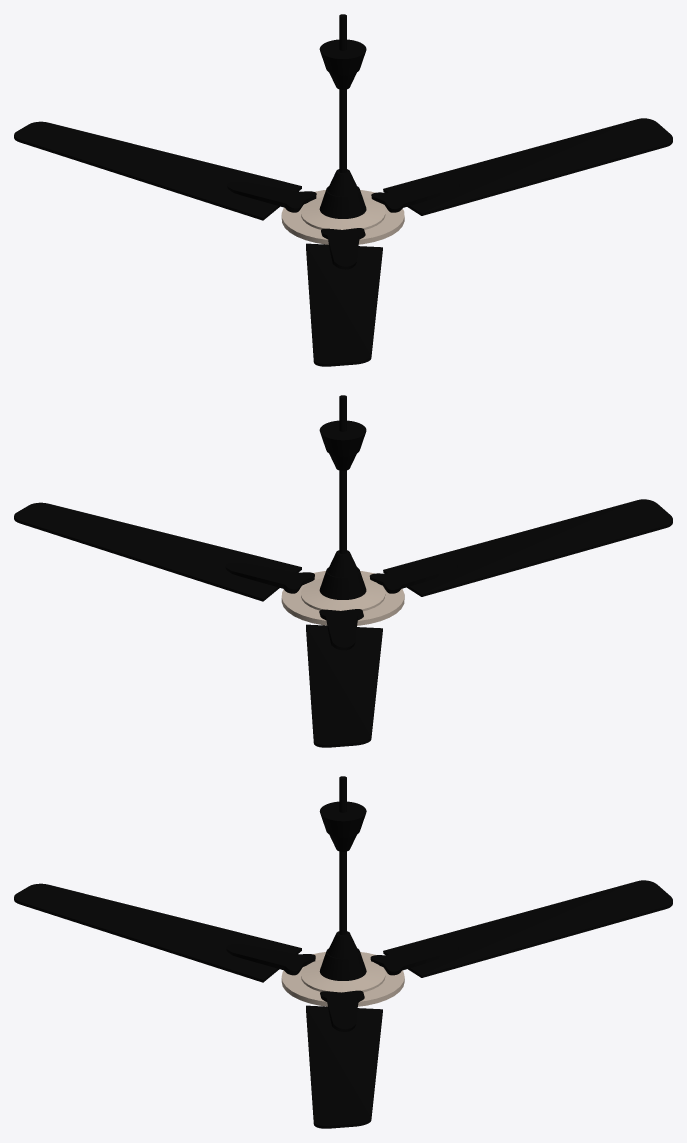
File: Fan.FBX
The picture shows the model from 3 angles, top to bottom: view 1: azimuth 30°, elevation 25°; view 2: azimuth 150°, elevation 25°; view 3: azimuth 270°, elevation 25°; orthographic projection.
Visible parts, largest first — view 1: Rectangle0, Rectangle0.Rectangle1, Rectangle0.Rectangle2, Line125, Line126, Line127, Line128.Line128.Li, Line128, Line128.Line128.L0, Cylinder51; view 2: Rectangle0.Rectangle2, Rectangle0, Rectangle0.Rectangle1, Line125, Line126, Line127, Line128, Line128.Line128.L0, Line128.Line128.Li, Cylinder51; view 3: Rectangle0.Rectangle1, Rectangle0.Rectangle2, Rectangle0, Line125, Line126, Line127, Line128.Line128.L0, Line128.Line128.Li, Line128, Cylinder51.
Part boxes in pixels (x1,y1,x2,y2): Rectangle0: (383, 118, 672, 215); Rectangle0.Rectangle1: (14, 121, 301, 220); Rectangle0.Rectangle2: (306, 243, 382, 366); Line125: (281, 190, 404, 244); Line126: (319, 169, 366, 218); Line127: (319, 39, 366, 89); Line128.Line128.Li: (227, 181, 316, 212); Line128: (371, 180, 459, 212); Line128.Line128.L0: (321, 228, 365, 269); Cylinder51: (339, 14, 346, 172); Rectangle0.Rectangle2: (383, 499, 672, 596); Rectangle0: (14, 502, 301, 601); Rectangle0.Rectangle1: (306, 624, 382, 747); Line125: (281, 571, 404, 625); Line126: (319, 550, 366, 599); Line127: (319, 420, 366, 470); Line128: (225, 562, 314, 593); Line128.Line128.L0: (369, 561, 458, 593); Line128.Line128.Li: (319, 609, 363, 650); Cylinder51: (339, 395, 346, 553); Rectangle0.Rectangle1: (383, 880, 672, 977); Rectangle0.Rectangle2: (14, 883, 301, 982); Rectangle0: (306, 1005, 382, 1128); Line125: (281, 952, 404, 1006); Line126: (319, 931, 366, 980); Line127: (319, 801, 366, 851); Line128.Line128.L0: (226, 944, 315, 975); Line128.Line128.Li: (370, 942, 458, 975); Line128: (320, 990, 364, 1031); Cylinder51: (339, 776, 346, 934).
Size of the model in its own units: 948 by 385 by 1086.
